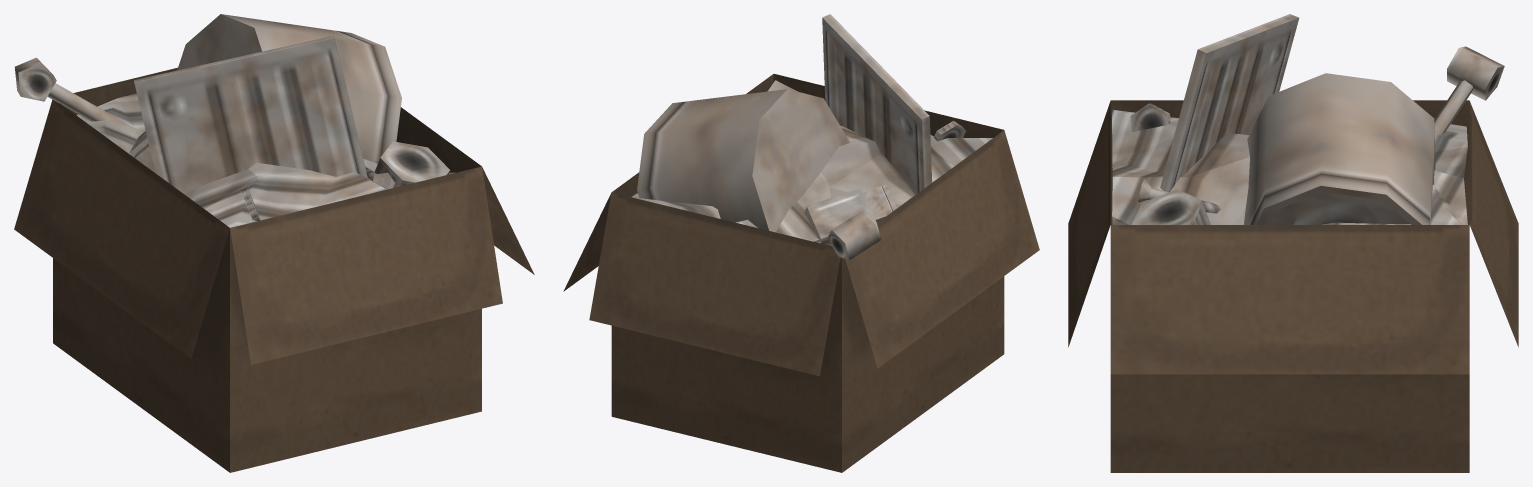
File: box_of_scrap_metal.fbx
The picture shows the model from 3 angles, left to right: view 1: azimuth 30°, elevation 25°; view 2: azimuth 150°, elevation 25°; view 3: azimuth 270°, elevation 25°; orthographic projection. The views are drawn at different scales.
Visible parts, largest first — view 1: ScrapMetalBox; view 2: ScrapMetalBox; view 3: ScrapMetalBox.
Boxes of the visible parts, left/top/right/bottom form: ScrapMetalBox: left=14, top=14, right=534, bottom=472; ScrapMetalBox: left=563, top=14, right=1039, bottom=472; ScrapMetalBox: left=1068, top=14, right=1518, bottom=472.
Size of the model in its own units: 0.3495 by 0.357 by 0.3919.
